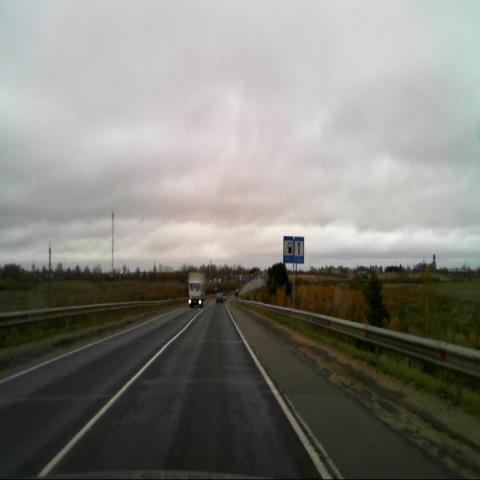7_3: (283, 235, 294, 263)
7_4: (293, 236, 304, 264)
